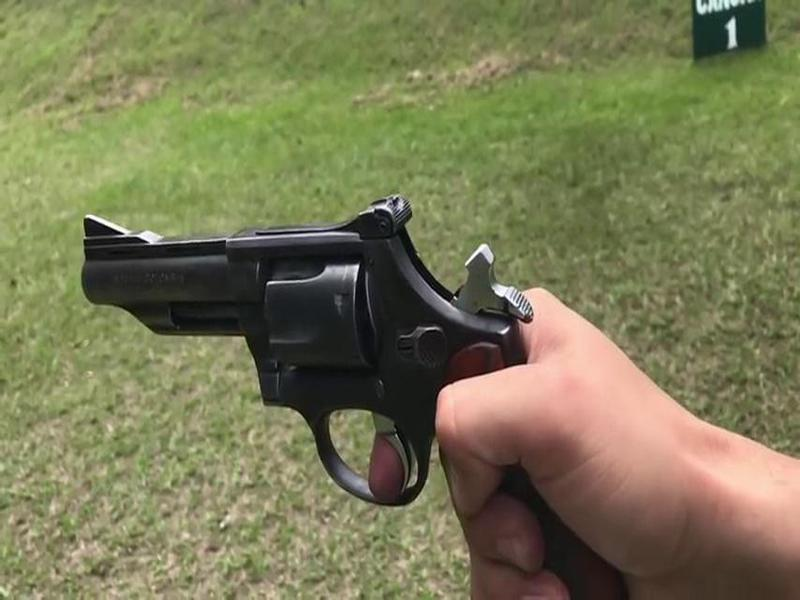Revolver: (56, 186, 597, 573)
